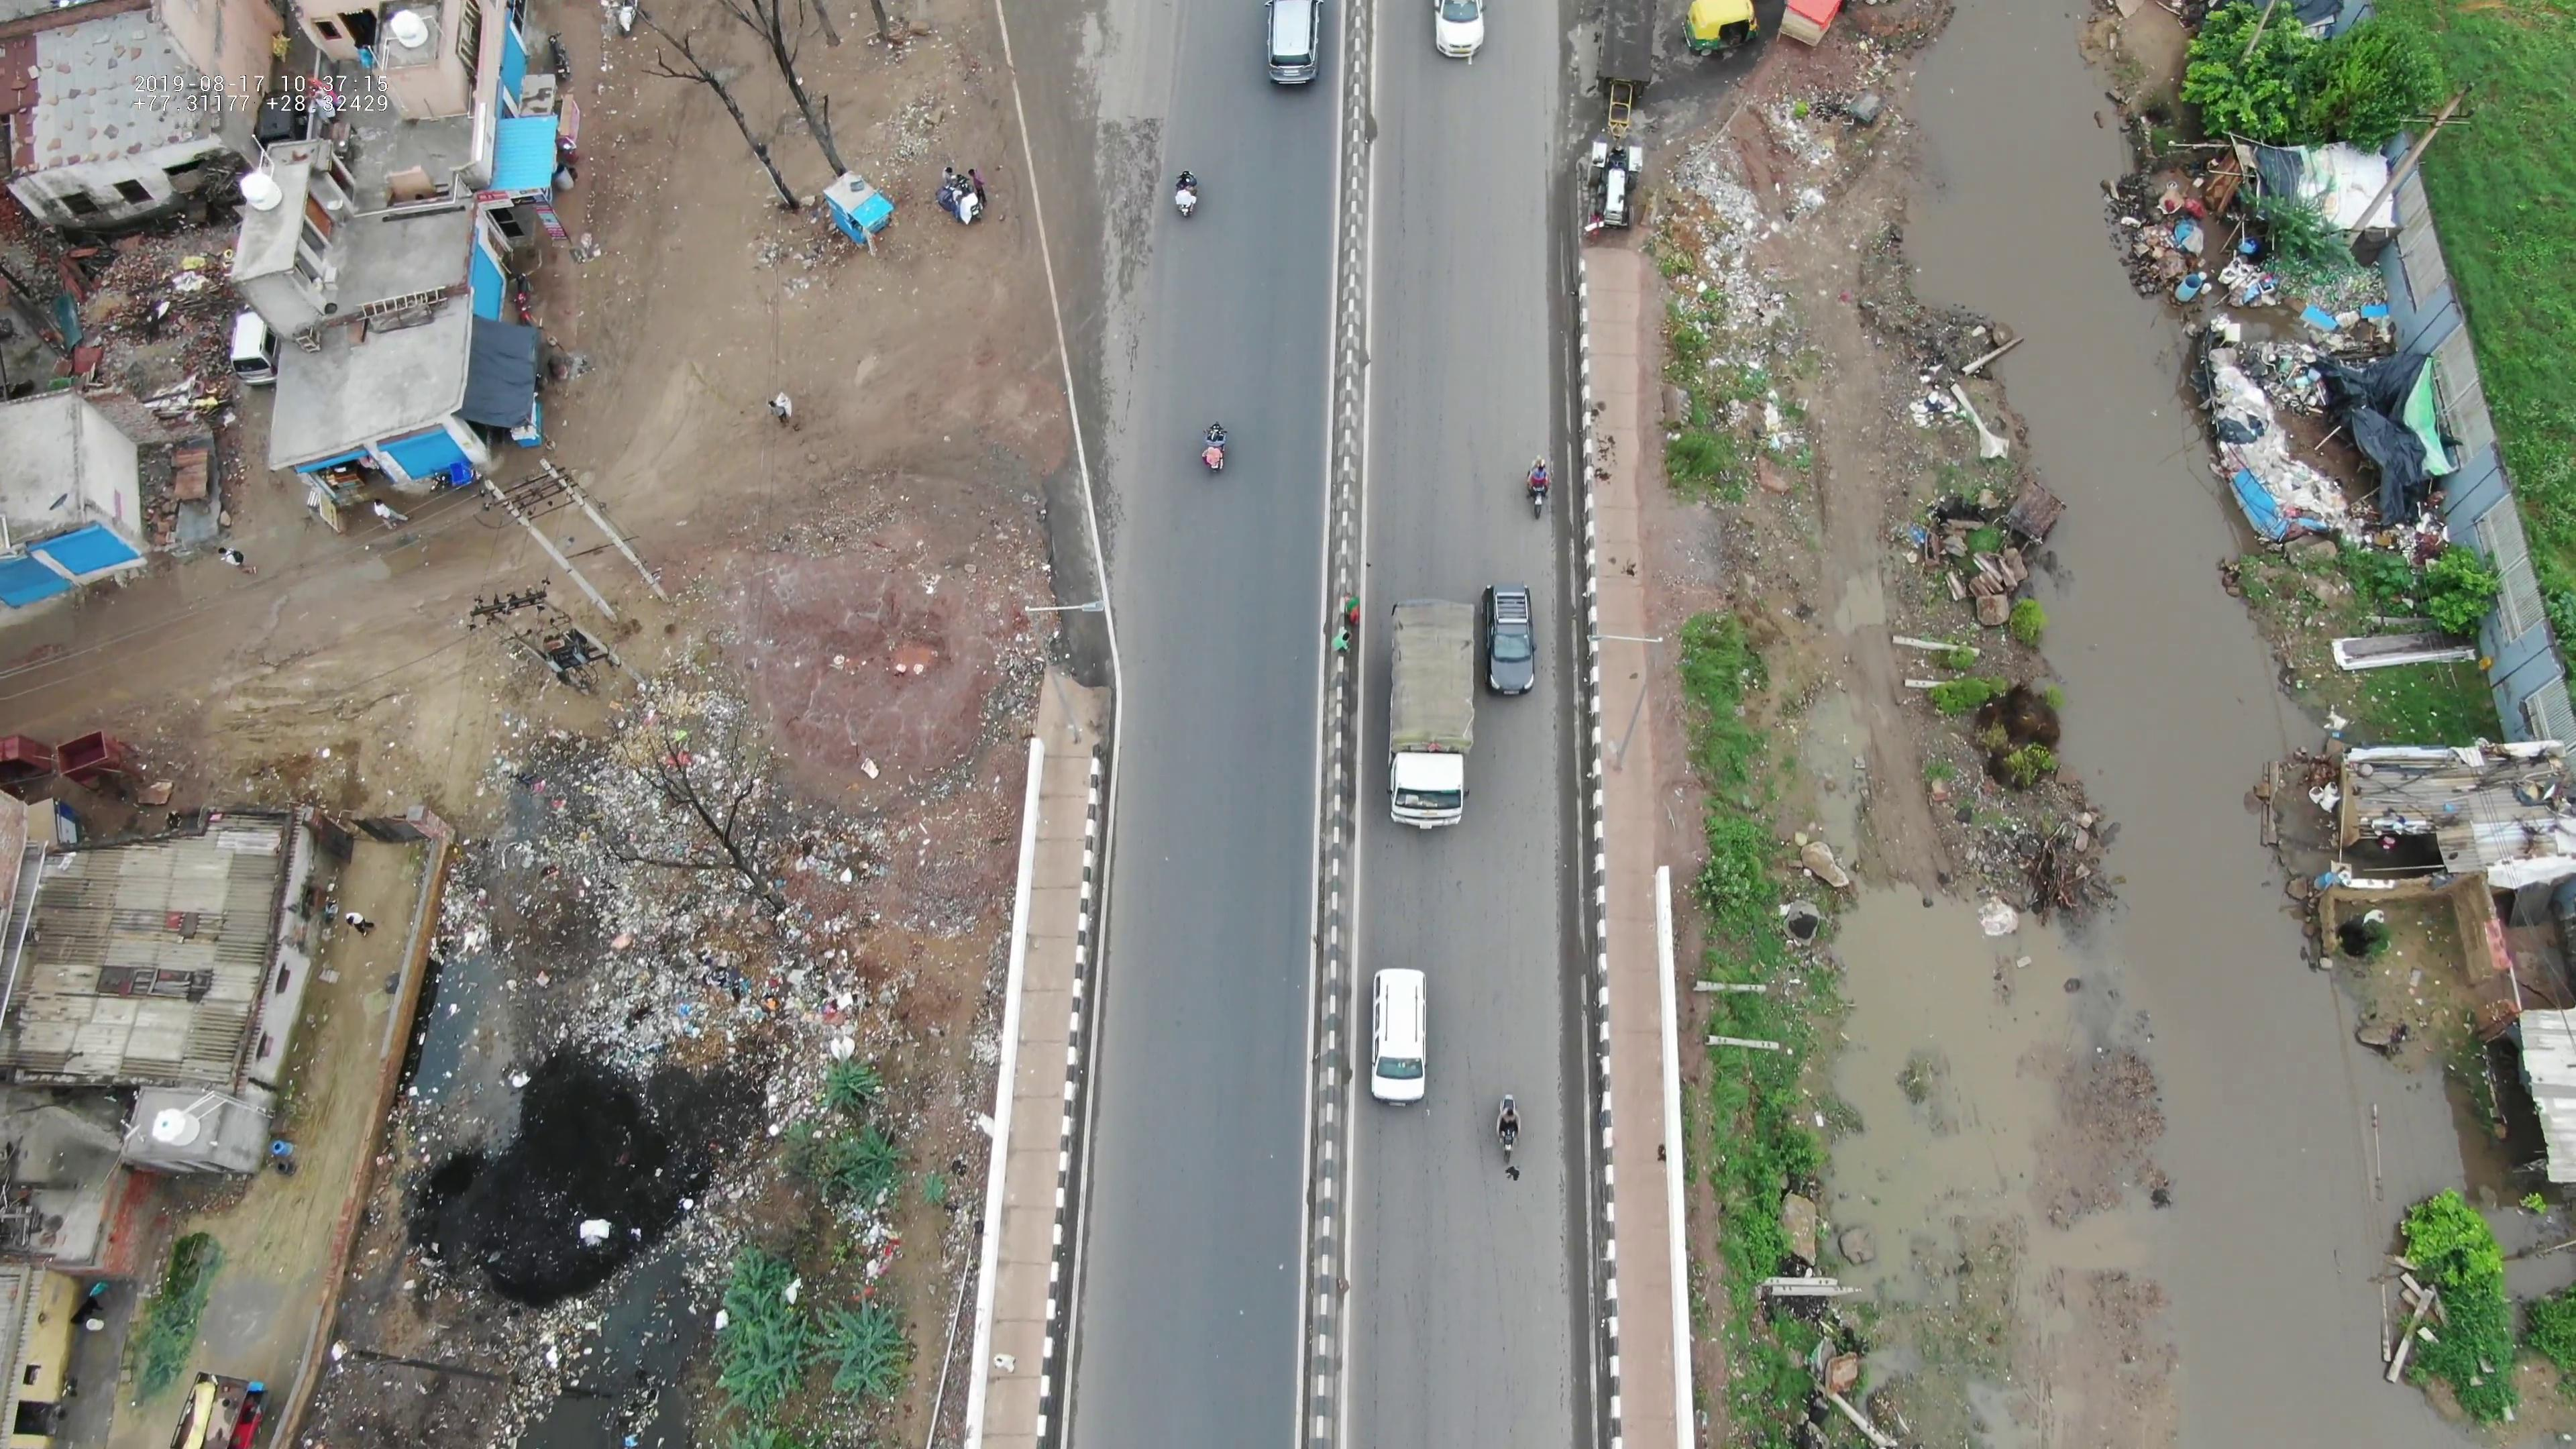Ravelling: (1074, 106, 1168, 375)
Road_side_garbage: (510, 764, 904, 1139)
